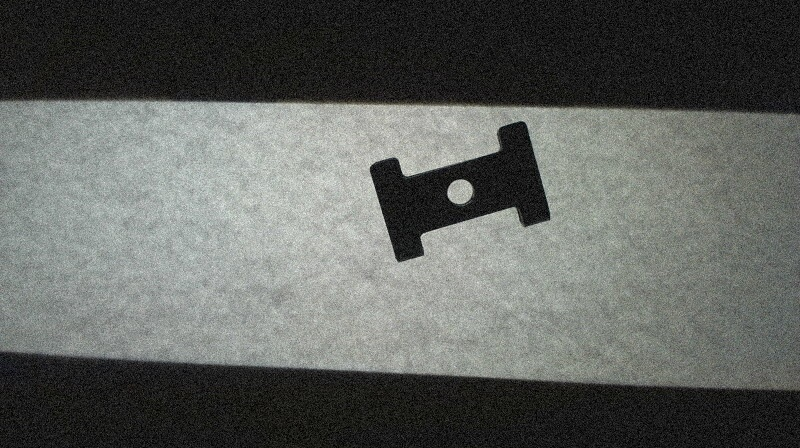O002: (365, 120, 556, 265)
